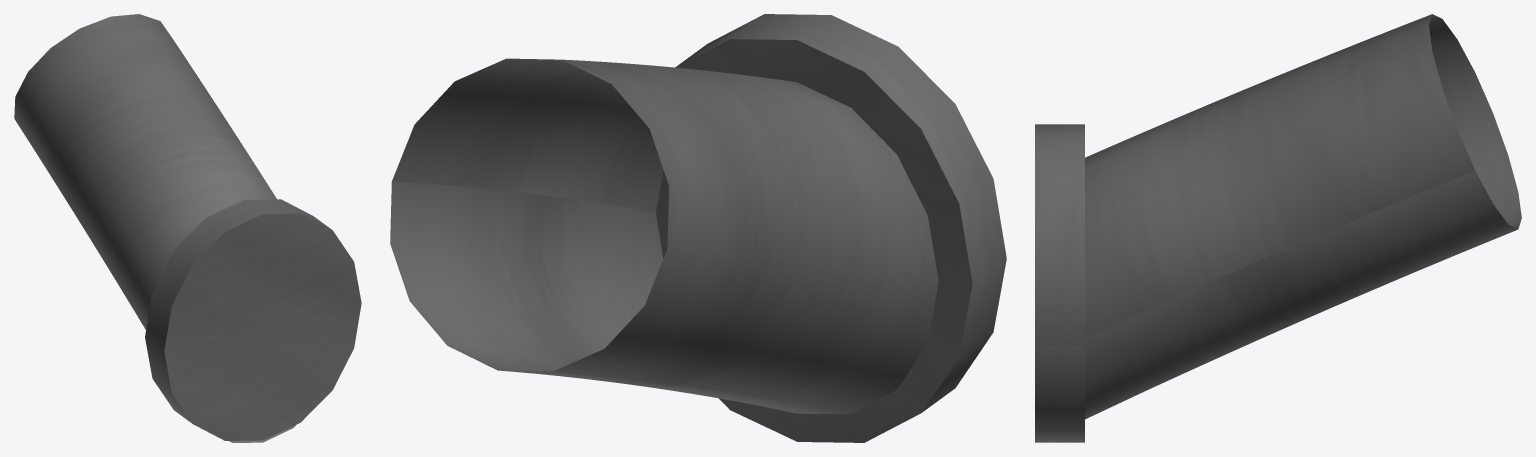
File: mastarmcurve_8x2_c0.obj
3 views of the same model, side by side, from view 1: azimuth 30°, elevation 25°; view 2: azimuth 150°, elevation 25°; view 3: azimuth 270°, elevation 25° (orthographic). The views are drawn at different scales.
Parts seen in each view (by area): view 1: mastarm_8x2_c0; view 2: mastarm_8x2_c0; view 3: mastarm_8x2_c0.
Boxes of the visible parts, <box> form: mastarm_8x2_c0: <box>14,14,361,442</box>; mastarm_8x2_c0: <box>390,14,1006,442</box>; mastarm_8x2_c0: <box>1035,14,1521,442</box>.
Size of the model in its own units: 0.775 by 1.18 by 1.28.
